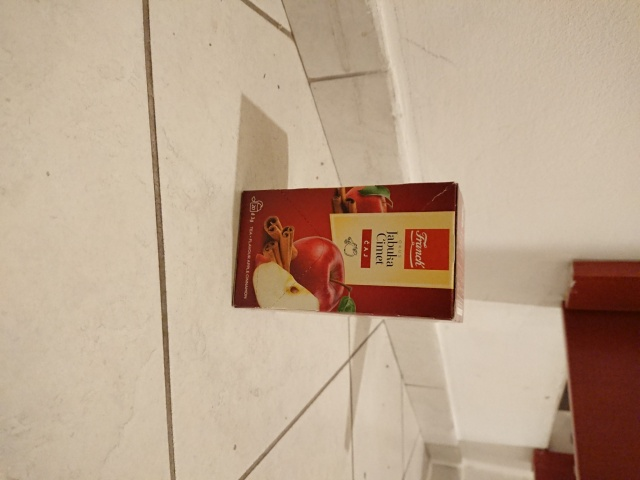Franck Apple Cinnamon Tea 60g: (228, 178, 468, 326)
